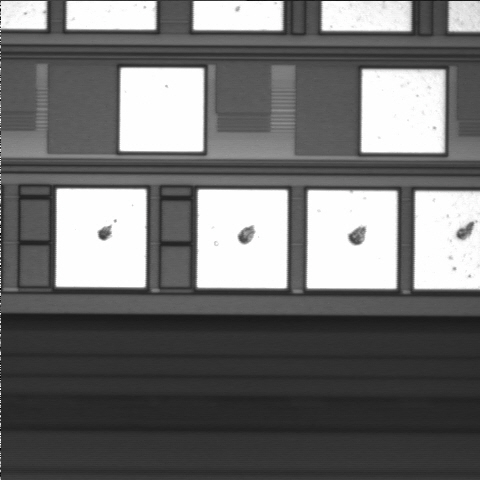pad: (197, 190, 288, 288), (307, 190, 397, 289), (56, 189, 146, 287), (120, 68, 204, 151), (361, 70, 445, 153)
